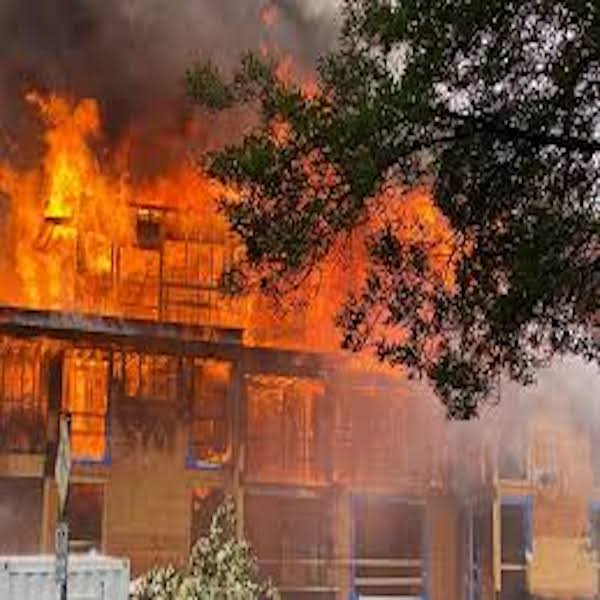fire: (6, 87, 180, 313), (183, 184, 247, 330), (1, 336, 56, 446), (116, 353, 235, 403), (250, 287, 337, 355), (60, 344, 109, 459), (246, 374, 328, 423), (375, 197, 437, 235)
